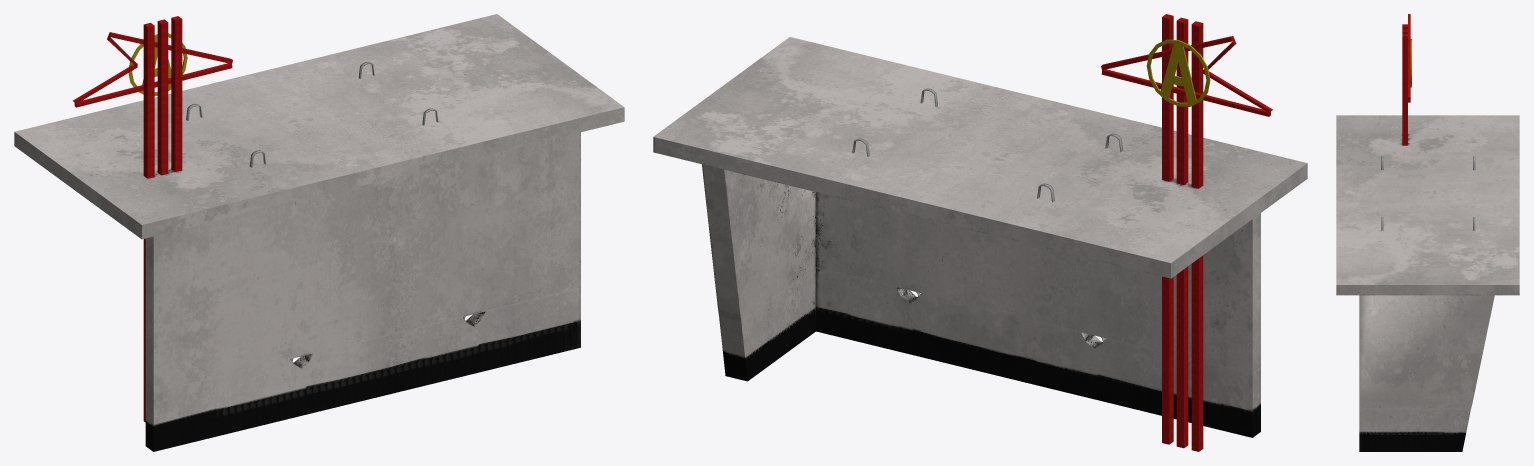
Rendered from bustation.glb.
The picture shows the model from 3 angles, left to right: view 1: azimuth 30°, elevation 25°; view 2: azimuth 150°, elevation 25°; view 3: azimuth 270°, elevation 25°; orthographic projection. The views are drawn at different scales.
Visible parts, largest first — view 1: Cube.001, Cylinder.001; view 2: Cube.001, Cylinder.001; view 3: Cube.001, Cylinder.001.
Boxes of the visible parts, x1,y1,x2,y2 form: Cube.001: [14, 14, 624, 451]; Cylinder.001: [73, 16, 232, 422]; Cube.001: [653, 37, 1307, 437]; Cylinder.001: [1101, 14, 1272, 451]; Cube.001: [1336, 115, 1519, 451]; Cylinder.001: [1402, 14, 1411, 145].
Bounding box in the file's own units: 7.25 × 5.5 × 3.2.
Materials: 4 (4 with a texture image).
